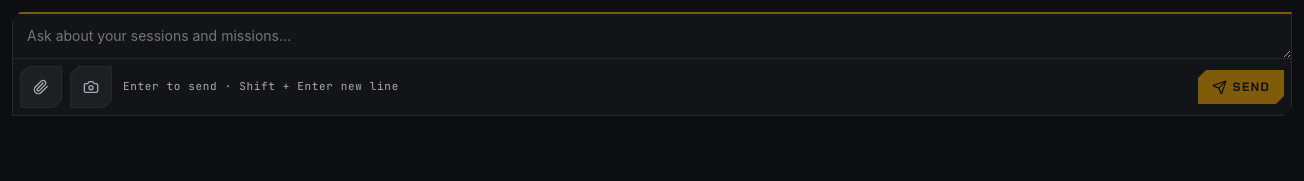
an uncertain outcome keeps the draft but never offers a blind resend
Type "maybe sent" into the text box with test id "composer-input" at (652, 36), box [13, 14, 1291, 58]
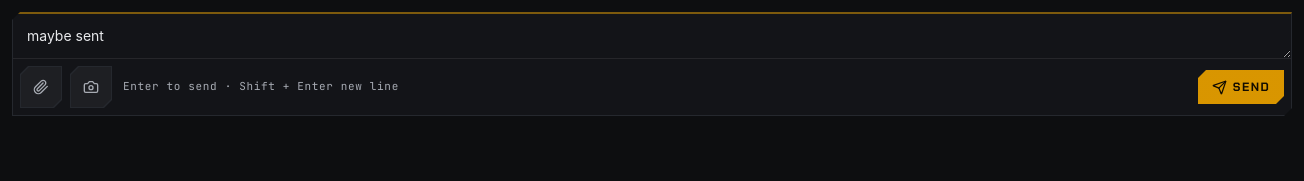
Click the button with test id "composer-send" at (1241, 87), box [1197, 69, 1285, 105]
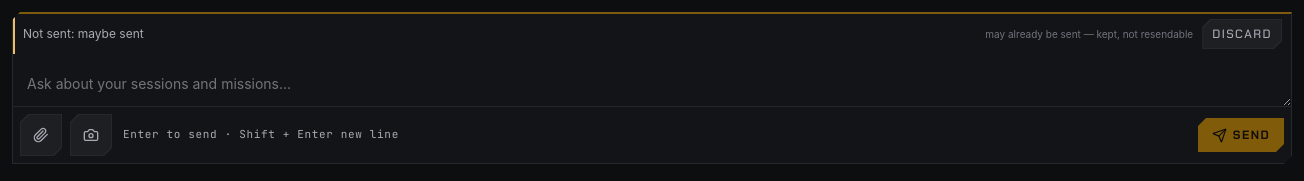
Check: the number of messages with test id "ask-recovered" is 1, box [13, 14, 1291, 54]
Check: the message with test id "ask-recovered" shows "may already be sent", box [985, 28, 1193, 40]
Check: the button with test id "ask-recovered-discard" is shown, box [1201, 18, 1283, 50]
